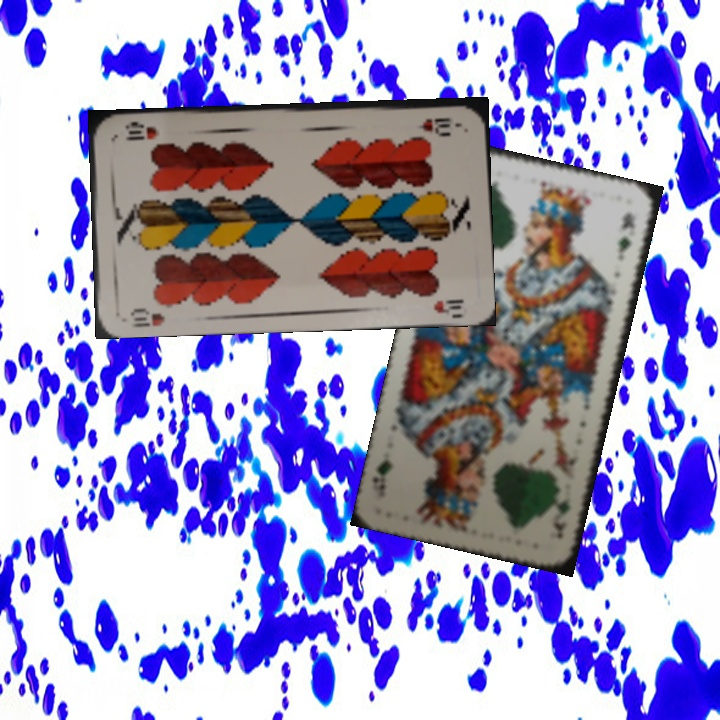GK: (546, 486, 572, 541)
H10: (126, 304, 167, 329), (412, 113, 454, 133)
